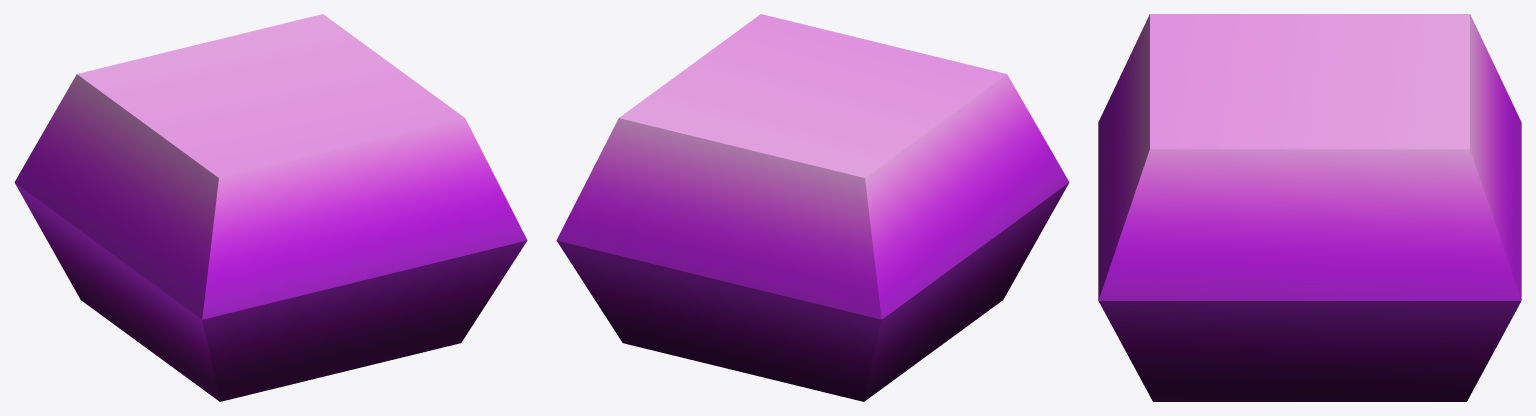
Rendered from Gem_Magenta.fbx.
3 views of the same model, side by side, from view 1: azimuth 30°, elevation 25°; view 2: azimuth 150°, elevation 25°; view 3: azimuth 270°, elevation 25° (orthographic). The views are drawn at different scales.
Parts seen in each view (by area): view 1: Gem_Magenta; view 2: Gem_Magenta; view 3: Gem_Magenta.
Boxes of the visible parts, left/top/right/bottom form: Gem_Magenta: left=14, top=14, right=527, bottom=401; Gem_Magenta: left=556, top=14, right=1069, bottom=401; Gem_Magenta: left=1098, top=14, right=1521, bottom=401.
Bounding box in the file's own units: 7.34 × 4.86 × 7.34.
